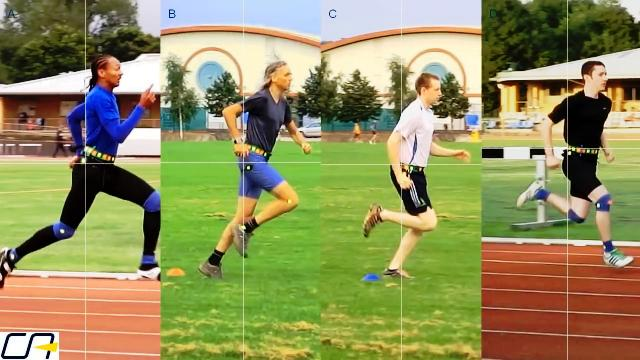berlari: (3, 50, 160, 292), (178, 60, 316, 282), (356, 65, 470, 284), (524, 60, 636, 276)
